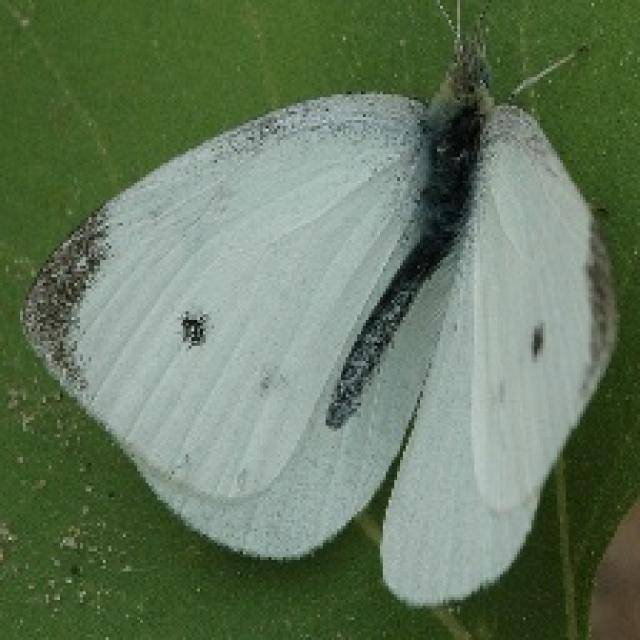butterfly: (17, 0, 620, 606)
